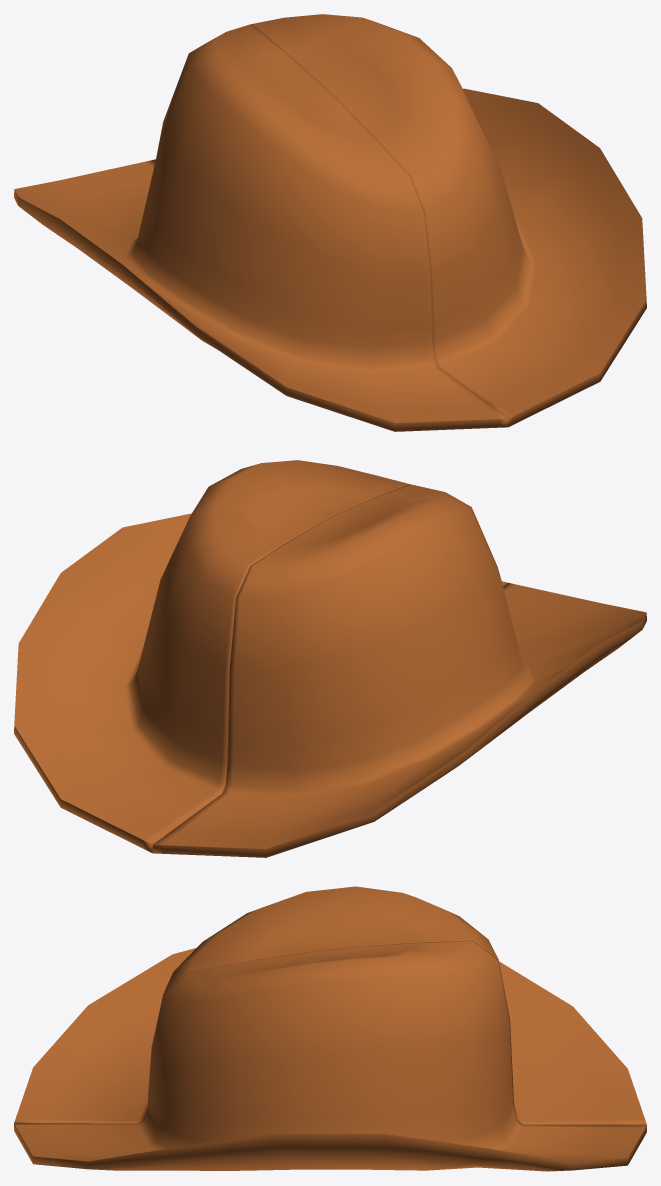
Rendered from SM_Hat_01a.fbx.
3 views of the same model, one above another, from view 1: azimuth 30°, elevation 25°; view 2: azimuth 150°, elevation 25°; view 3: azimuth 270°, elevation 25° (orthographic). The views are drawn at different scales.
Parts seen in each view (by area): view 1: Hat_02, Hat_01; view 2: Hat_02, Hat_01; view 3: Hat_01, Hat_02.
Boxes of the visible parts, x1,y1,x2,y2 form: Hat_02: (14,24,508,431); Hat_01: (153,14,646,427); Hat_02: (152,484,646,857); Hat_01: (14,460,507,853); Hat_01: (14,940,646,1171); Hat_02: (14,886,646,1124).
Size of the model in its own units: 35.06 by 16.51 by 45.1.
